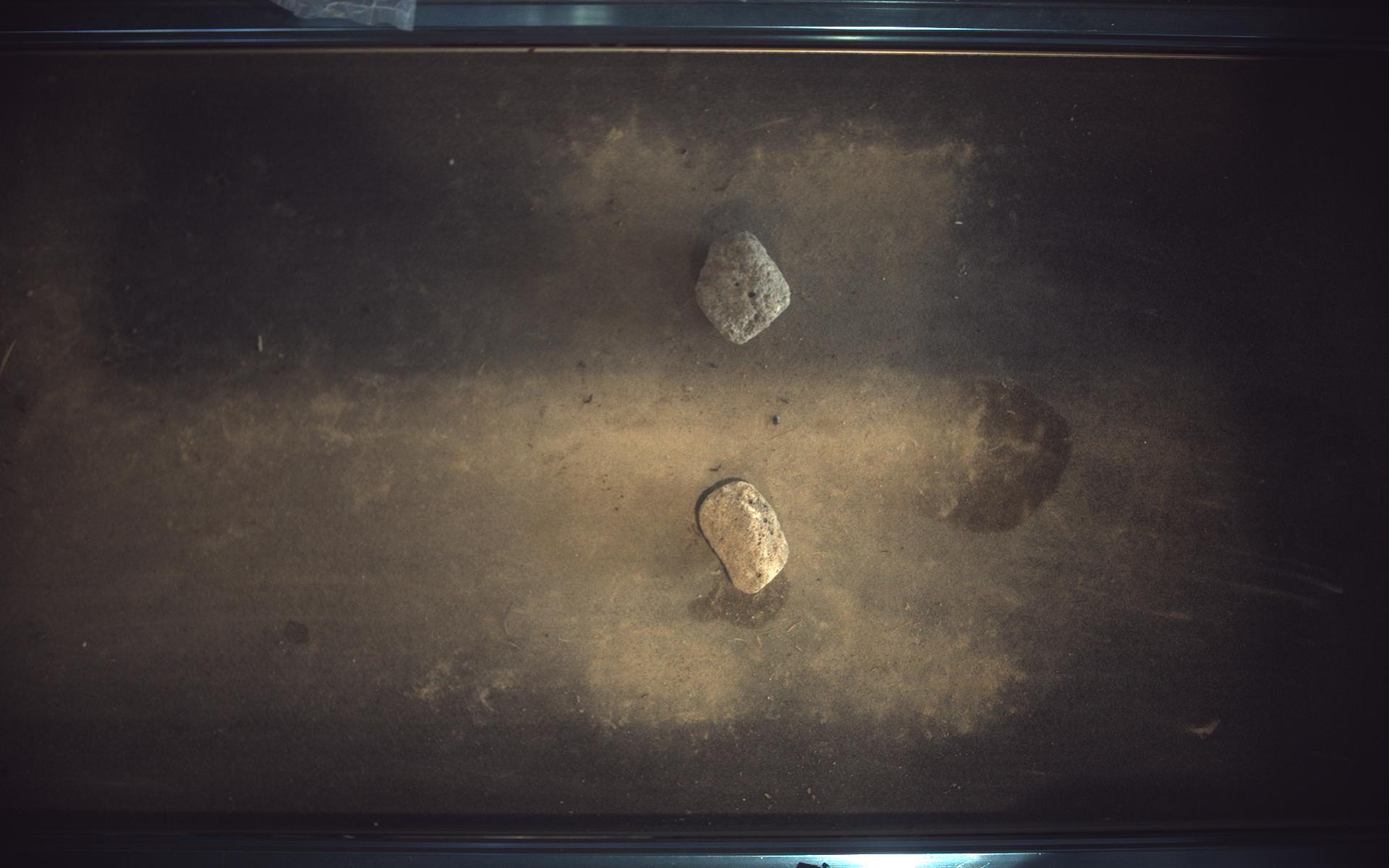stone: (697, 231, 791, 344), (699, 480, 790, 595)
